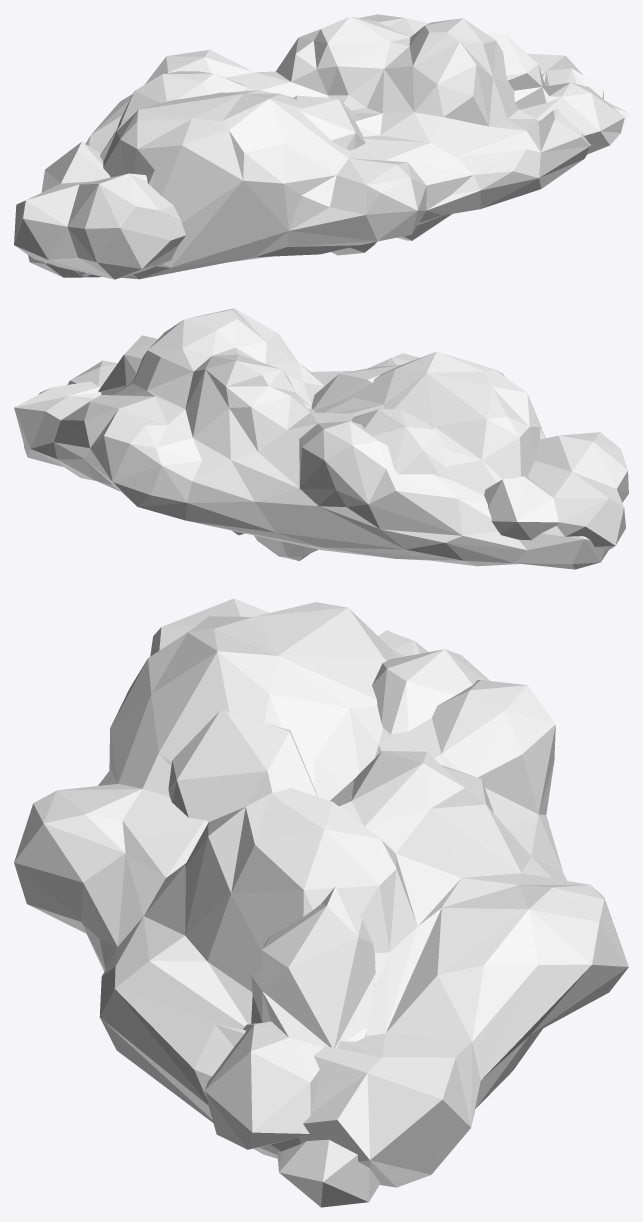
File: clouds.glb
3 renders of one model, top to bottom at view 1: azimuth 30°, elevation 25°; view 2: azimuth 150°, elevation 25°; view 3: azimuth 270°, elevation 25°, orthographic. The views are drawn at different scales.
Parts seen in each view (by area): view 1: SM_Env_Cloud_03, SM_Env_Cloud_02, SM_Env_Cloud_01, SM_Env_Cloud_04; view 2: SM_Env_Cloud_03, SM_Env_Cloud_02, SM_Env_Cloud_01, SM_Env_Cloud_05; view 3: SM_Env_Cloud_03, SM_Env_Cloud_01, SM_Env_Cloud_02.
Boxes of the visible parts, <box> form: SM_Env_Cloud_03: <box>28,14,603,279</box>; SM_Env_Cloud_02: <box>14,71,628,279</box>; SM_Env_Cloud_01: <box>75,33,624,276</box>; SM_Env_Cloud_04: <box>397,214,451,240</box>; SM_Env_Cloud_03: <box>14,308,608,569</box>; SM_Env_Cloud_02: <box>311,365,628,551</box>; SM_Env_Cloud_01: <box>67,335,157,395</box>; SM_Env_Cloud_05: <box>254,535,318,560</box>; SM_Env_Cloud_03: <box>14,602,628,1187</box>; SM_Env_Cloud_01: <box>204,886,375,1149</box>; SM_Env_Cloud_02: <box>150,598,489,1207</box>.
Bounding box in the file's own units: 7.29 × 2.4 × 3.89.
1 material, 1 textured.
